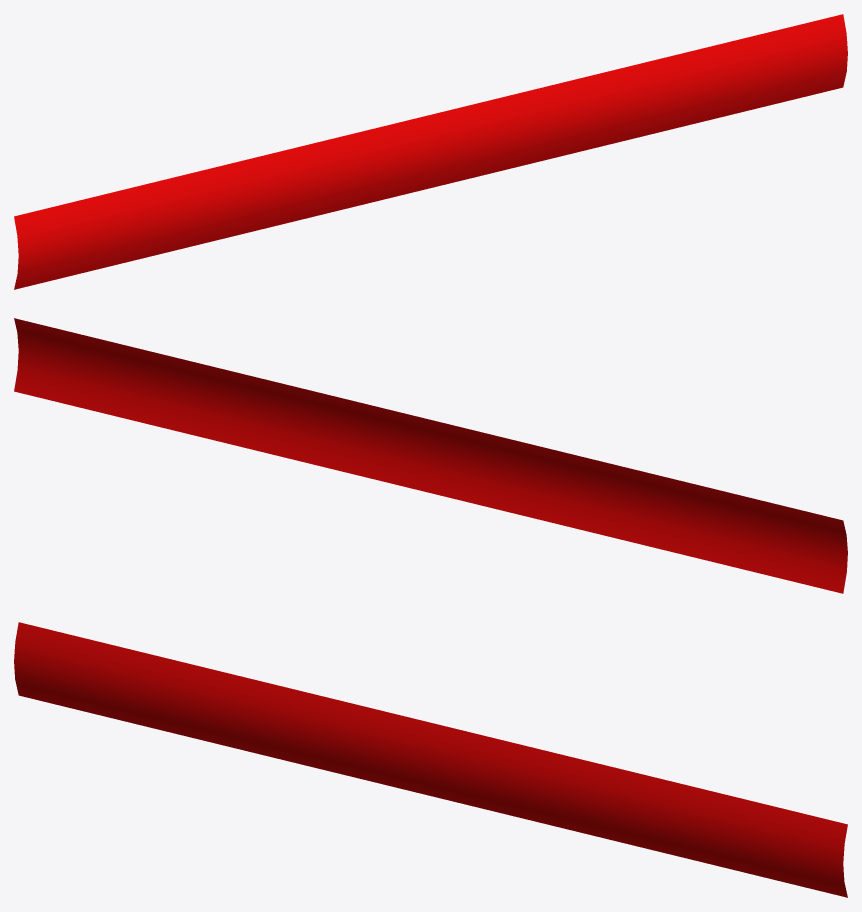
The model's file is SM_CurtainTop.FBX.
3 renders of one model, top to bottom at view 1: azimuth 30°, elevation 25°; view 2: azimuth 150°, elevation 25°; view 3: azimuth 330°, elevation 25°, orthographic.
Parts seen in each view (by area): view 1: SM_CurtainTop; view 2: SM_CurtainTop; view 3: SM_CurtainTop.
Boxes of the visible parts, x1,y1,x2,y2 form: SM_CurtainTop: (14,14,847,289); SM_CurtainTop: (14,318,847,593); SM_CurtainTop: (14,622,847,897).
Bounding box in the file's own units: 405 × 34.23 × 3.97.
